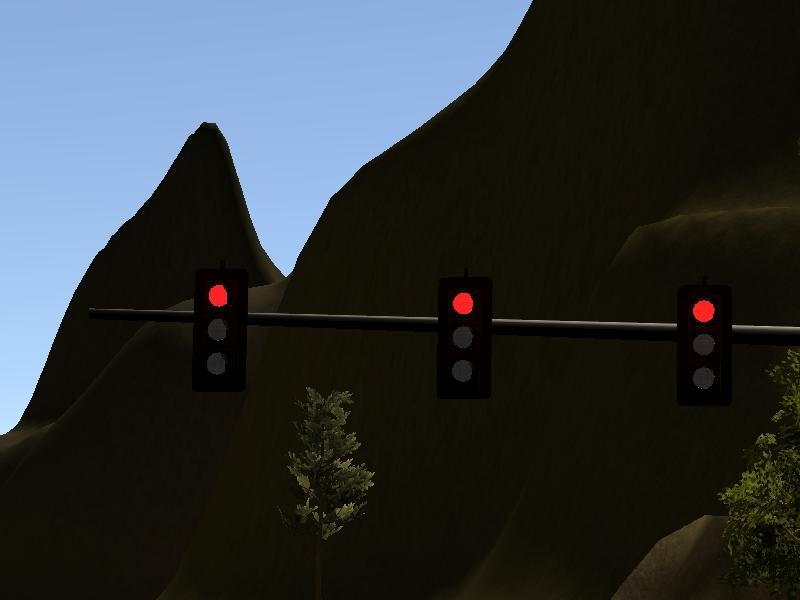red: (438, 279, 494, 400), (195, 271, 249, 394), (678, 288, 731, 406)
